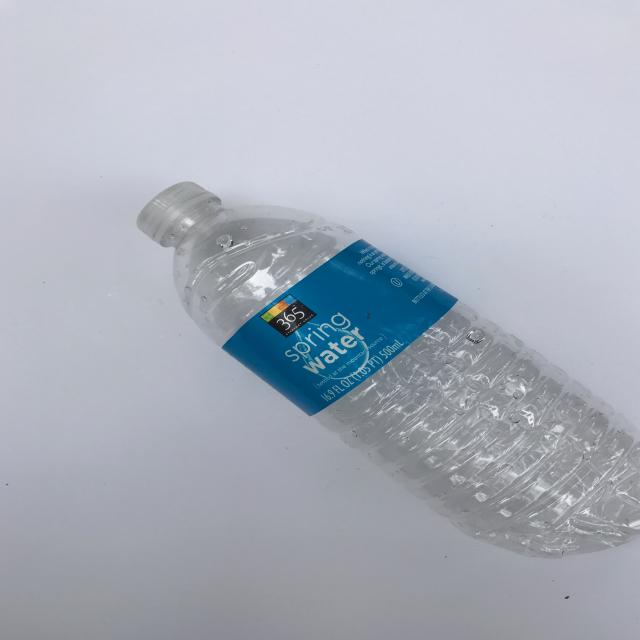plastic: (136, 180, 640, 559)
